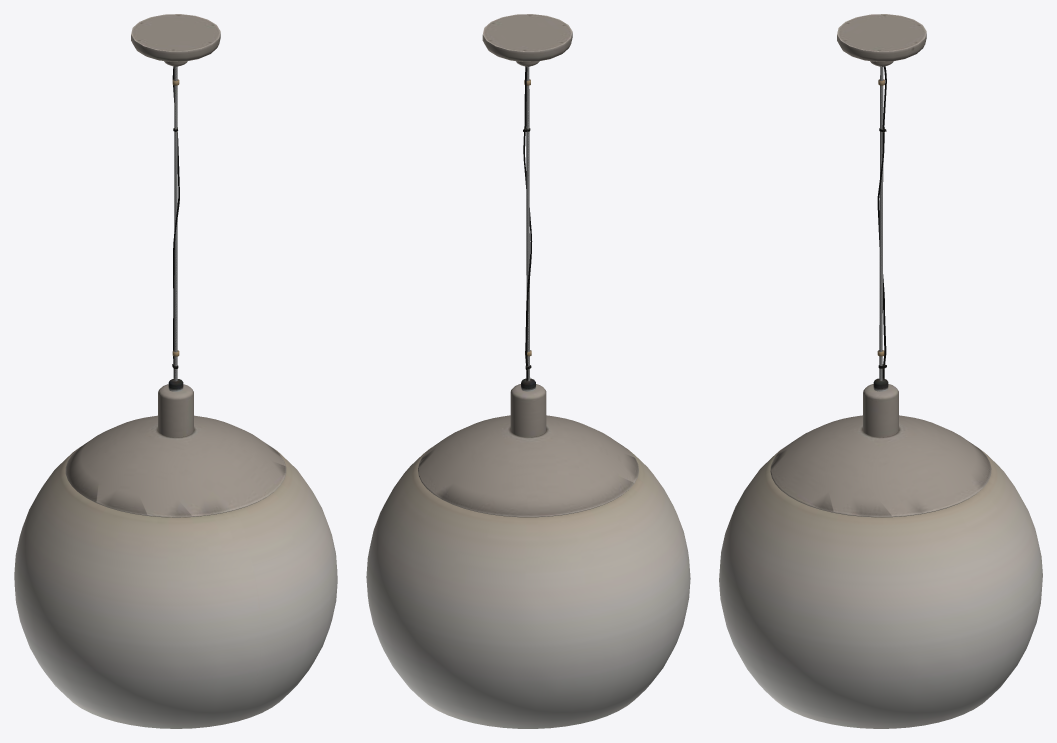
The model's file is modern_ceiling_lamp_01.glb.
3 renders of one model, left to right at view 1: azimuth 30°, elevation 25°; view 2: azimuth 150°, elevation 25°; view 3: azimuth 270°, elevation 25°, orthographic.
Visible parts, largest first — view 1: modern_ceiling_lamp_01; view 2: modern_ceiling_lamp_01; view 3: modern_ceiling_lamp_01.
Part boxes in pixels (bbox=[...]): modern_ceiling_lamp_01: bbox=[14, 14, 337, 728]; modern_ceiling_lamp_01: bbox=[366, 14, 690, 728]; modern_ceiling_lamp_01: bbox=[719, 14, 1042, 728].
Bounding box in the file's own units: 0.4317 × 0.9516 × 0.4317.
Materials: 2 (2 with a texture image).
